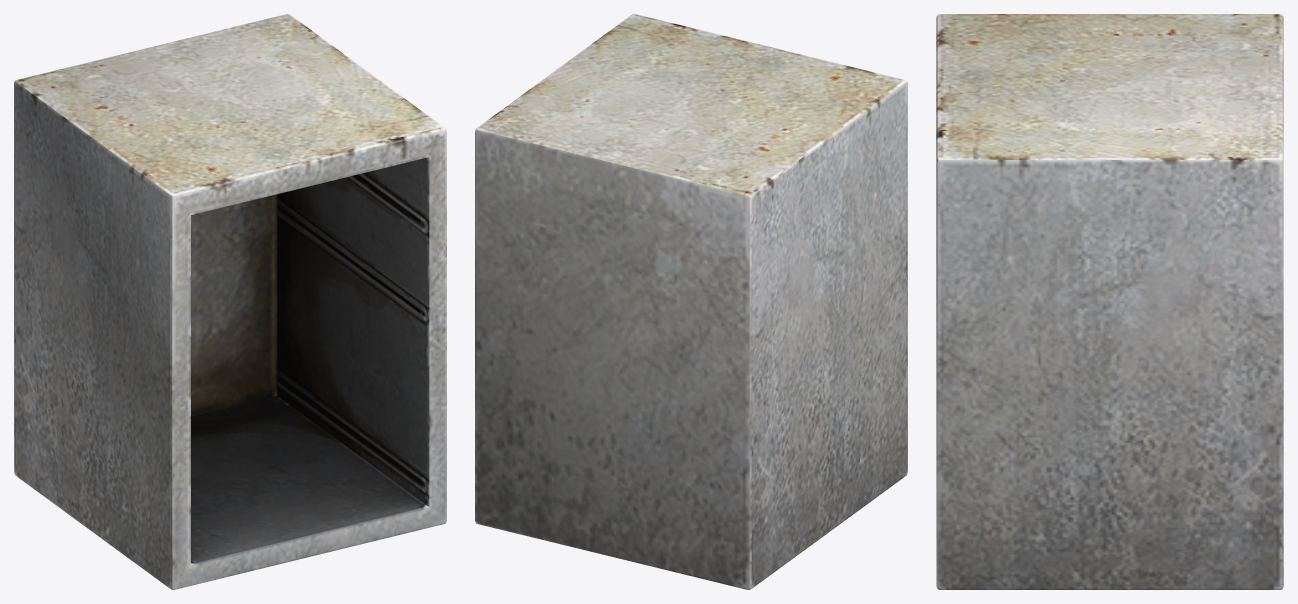
The model's file is file_cabinet_theta_small_body.DAE.
3 views of the same model, side by side, from view 1: azimuth 30°, elevation 25°; view 2: azimuth 150°, elevation 25°; view 3: azimuth 270°, elevation 25° (orthographic). The views are drawn at different scales.
Parts seen in each view (by area): view 1: file_cabinet_theta_small_body; view 2: file_cabinet_theta_small_body; view 3: file_cabinet_theta_small_body.
Boxes of the visible parts, x1,y1,x2,y2 form: file_cabinet_theta_small_body: (14, 14, 446, 589); file_cabinet_theta_small_body: (475, 14, 907, 589); file_cabinet_theta_small_body: (936, 14, 1283, 589).
Size of the model in its own units: 0.7318 by 1 by 0.7306.
